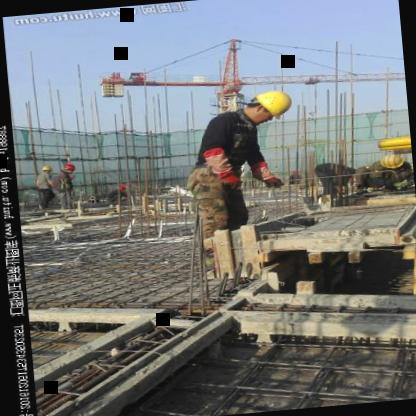helmet: (244, 87, 296, 122), (378, 151, 408, 169), (59, 160, 79, 174), (34, 164, 54, 176), (116, 181, 128, 191)
